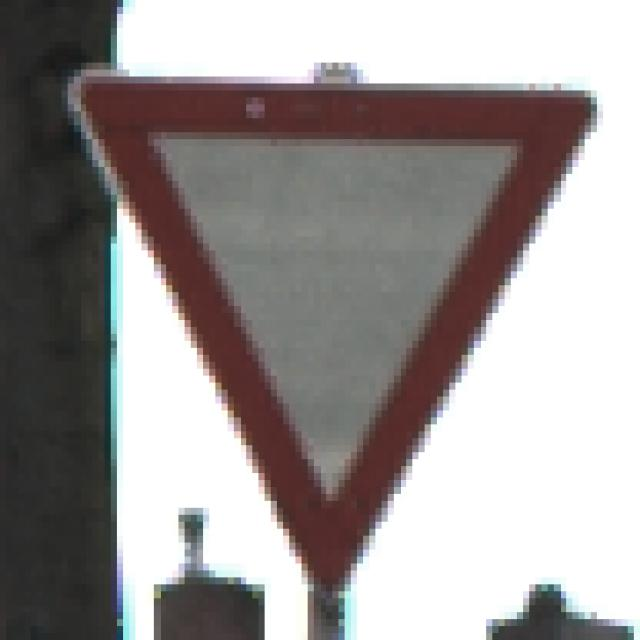Give Way: (57, 64, 586, 585)
